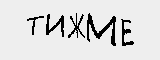Б: (40, 19, 53, 38)
Д: (64, 16, 82, 36)
Е: (80, 14, 98, 37)
М: (102, 10, 141, 37)
Т: (19, 18, 40, 35)
Ү: (54, 17, 65, 34)
